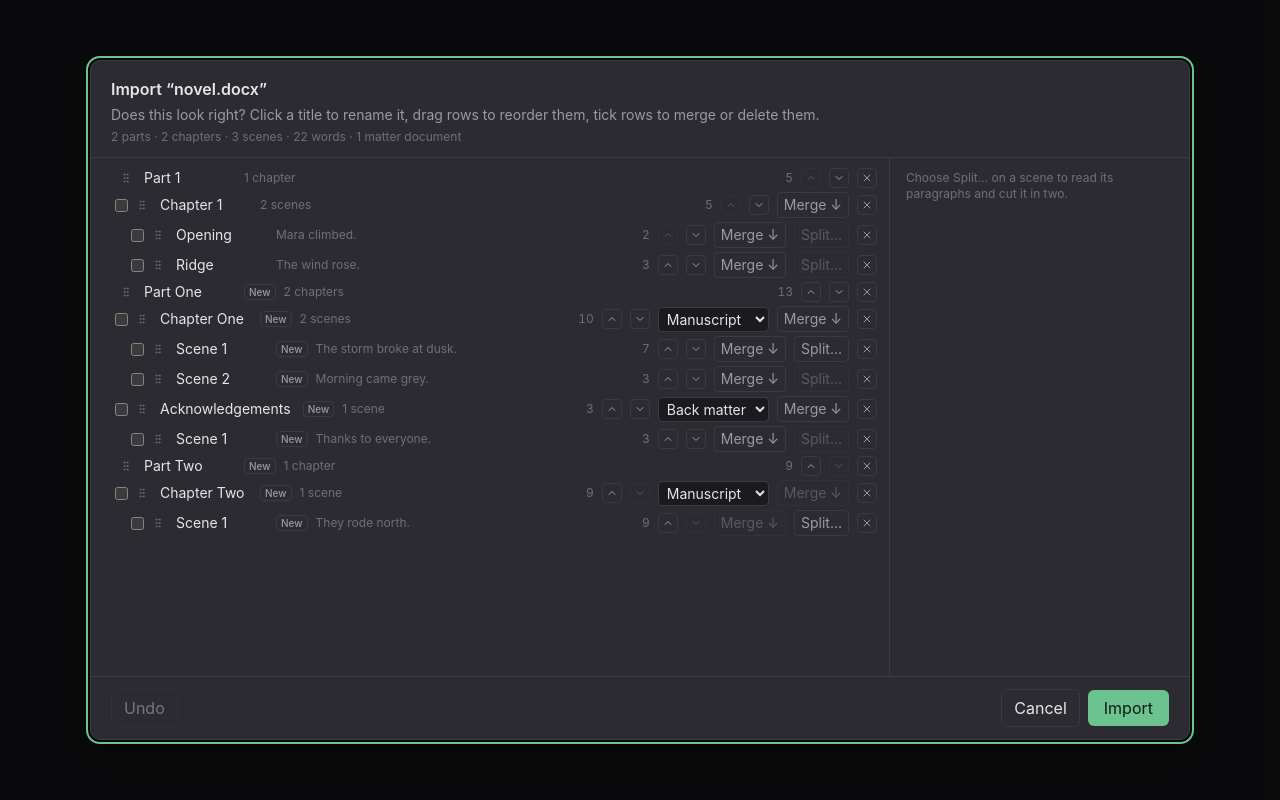
Scenario: ImportDialog (F-12.2) › shows the project’s own rows with the imported ones marked New, and says what Import deletes
Expected: the text with test id "import-new-badge" next to "The storm broke at dusk." reads "New", x1=281 y1=343 x2=303 y2=355
What coordinates should you click on to do the following:
click the button with aria-label "Merge Opening with the next scene"
I would click on:
 (750, 235)
Its box is x1=714 y1=222 x2=786 y2=248.
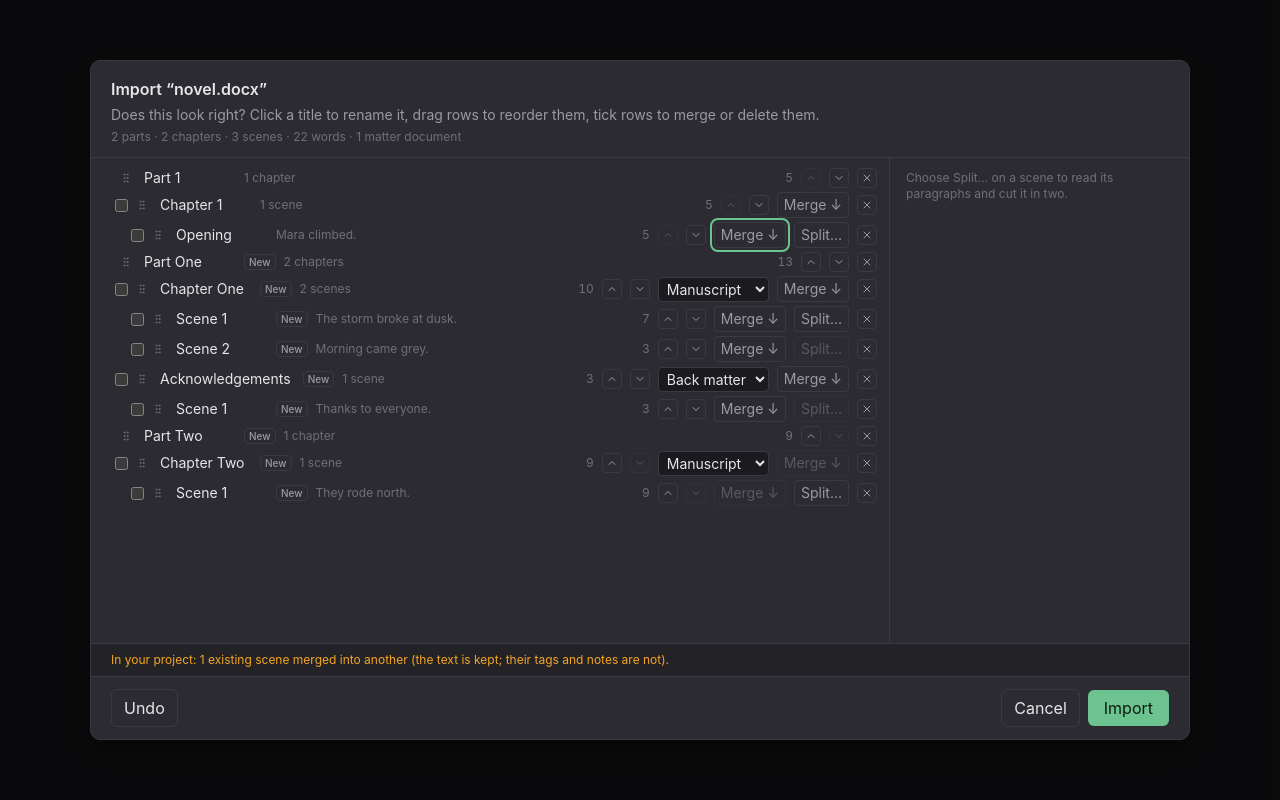
Expected: the text with test id "import-existing" shows "In your project: 1 existing scene merged into another (the text is kept; their tags and notes are not).", x1=111 y1=652 x2=669 y2=667
Deleting the chapter takes the merged scene with it: both scenes are now deleted.
What coordinates should you click on to do the following:
click the 1st checkbox with test id "import-select"
I would click on:
 (122, 205)
Its box is x1=115 y1=198 x2=128 y2=212.
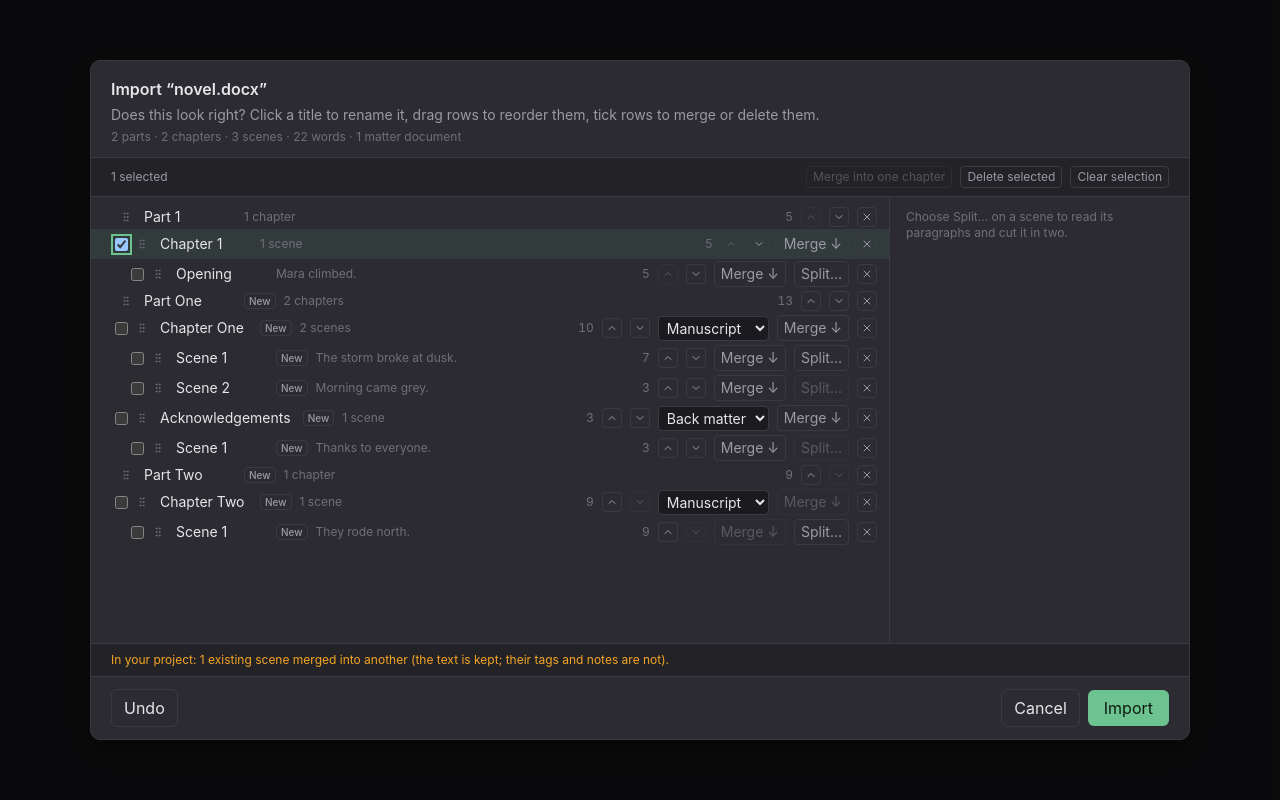
What coordinates should you click on to do the following:
click the button with test id "import-delete-selected"
I would click on:
 (1011, 177)
Its box is x1=960 y1=166 x2=1062 y2=188.
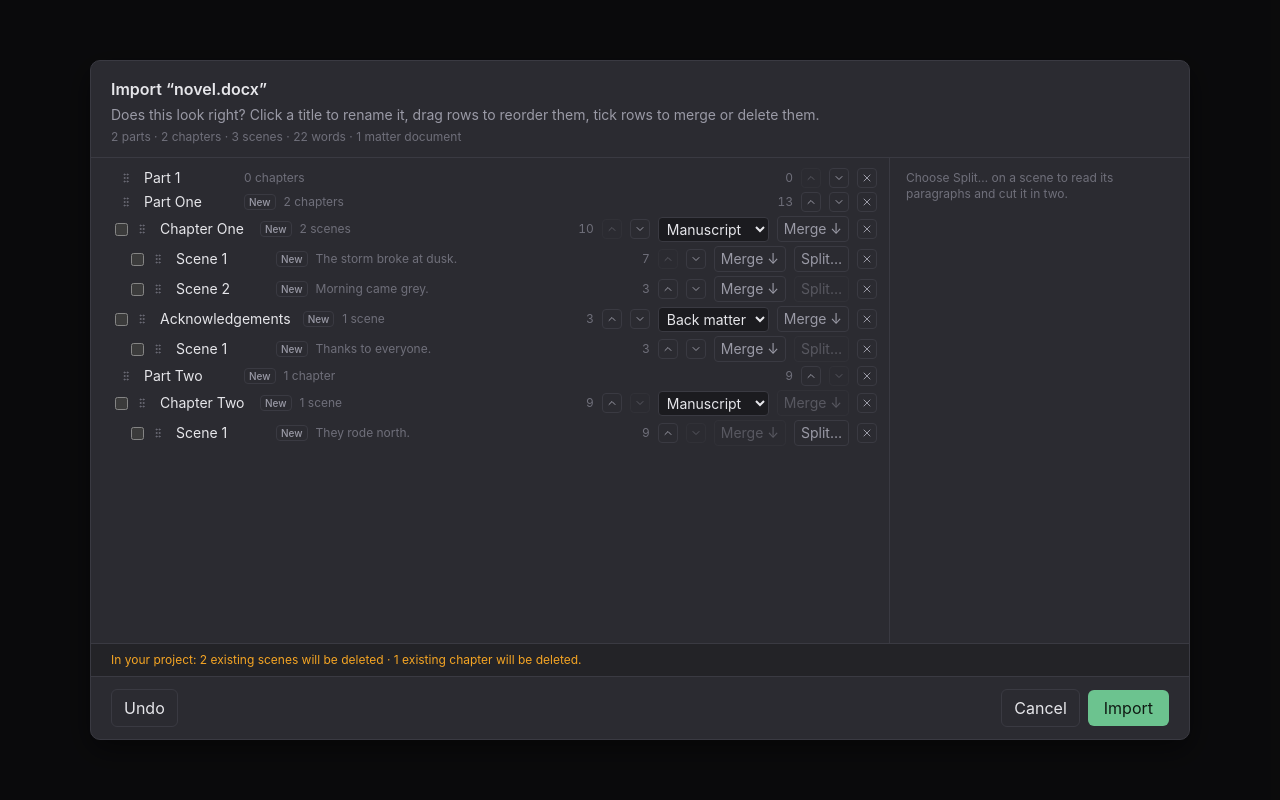
Expected: the text with test id "import-existing" shows "In your project: 2 existing scenes will be deleted · 1 existing chapter will be deleted.", x1=111 y1=652 x2=582 y2=667
